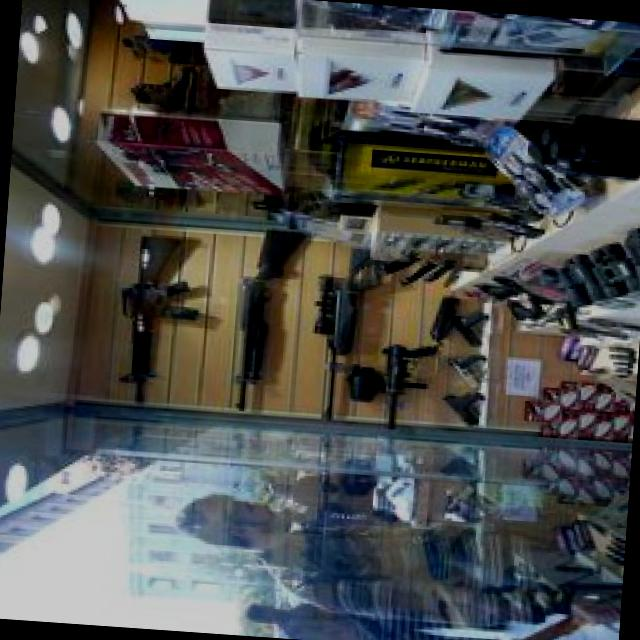long weapon: (104, 230, 198, 398), (216, 222, 288, 412)
